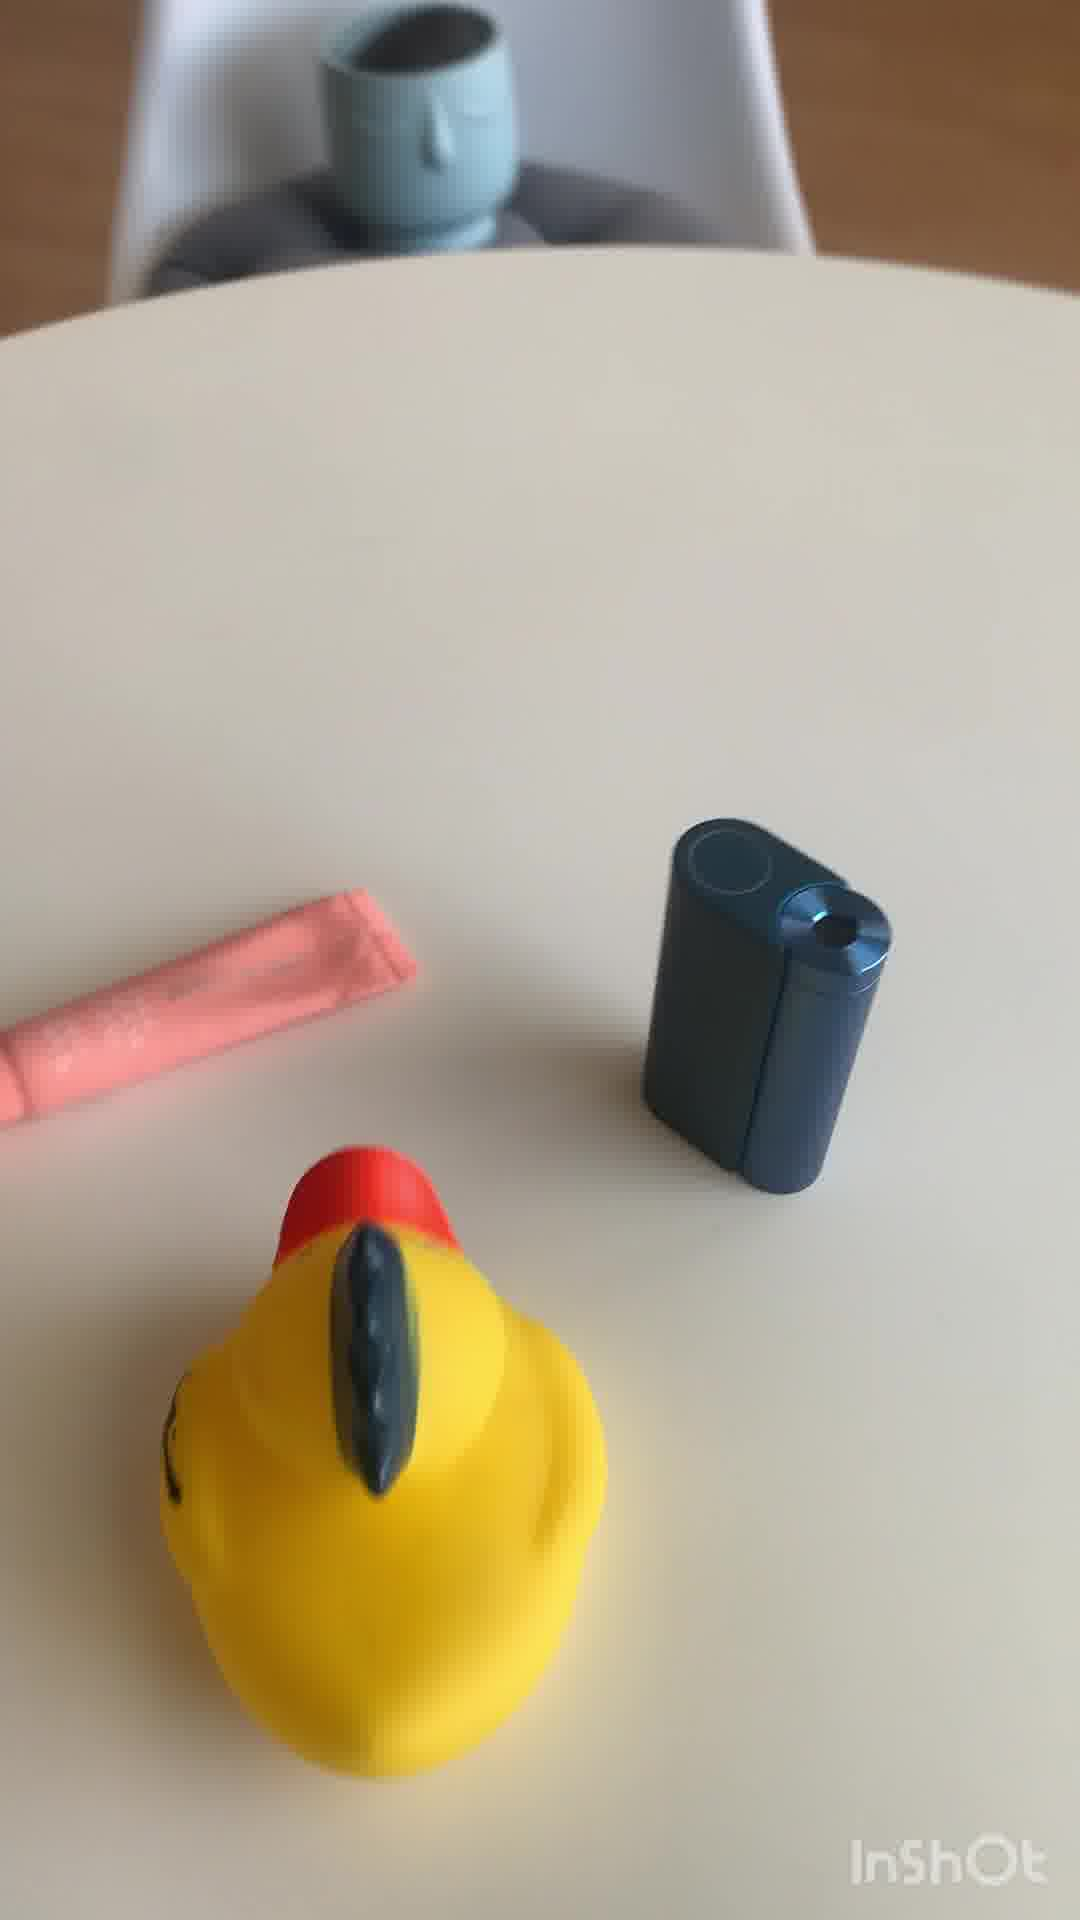duck: (152, 1141, 603, 1775)
glo: (636, 818, 890, 1200)
lip balm: (1, 890, 418, 1134)
